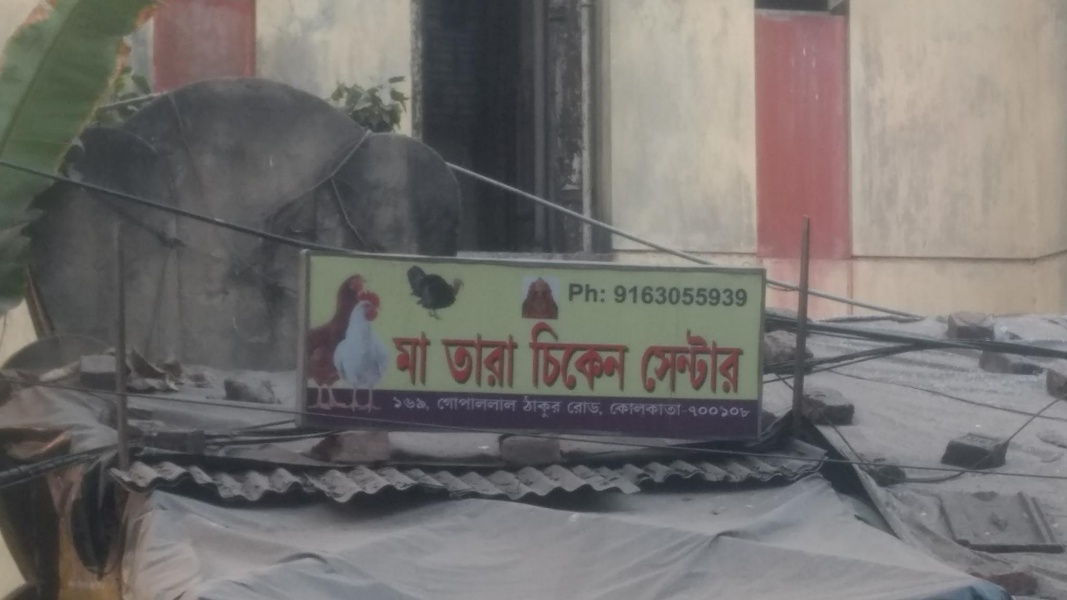text: (529, 318, 544, 393), (545, 318, 560, 393), (561, 318, 576, 393), (577, 318, 592, 393), (593, 318, 608, 393), (609, 318, 624, 393), (641, 330, 656, 396), (657, 330, 672, 396), (673, 330, 688, 396), (689, 330, 704, 396), (705, 330, 720, 396), (721, 330, 736, 396), (449, 333, 464, 393), (465, 333, 480, 393), (481, 333, 496, 393), (497, 333, 512, 393), (401, 329, 416, 388), (417, 329, 432, 388), (625, 318, 633, 393), (737, 330, 746, 396), (391, 329, 400, 388), (441, 333, 448, 393), (529, 393, 544, 420), (545, 393, 560, 420), (577, 282, 592, 307), (593, 282, 608, 307), (625, 285, 640, 308), (641, 285, 656, 308), (657, 285, 672, 308), (673, 285, 688, 308), (689, 285, 704, 308), (705, 285, 720, 308), (721, 285, 736, 308), (449, 396, 464, 415), (465, 396, 480, 415), (481, 396, 496, 415), (497, 396, 512, 415), (737, 285, 749, 308), (737, 404, 753, 420), (513, 333, 517, 393), (401, 396, 416, 412), (417, 396, 432, 412), (577, 401, 592, 417), (689, 404, 704, 420), (705, 404, 720, 420), (721, 404, 736, 420), (625, 403, 640, 418), (641, 403, 656, 418), (657, 403, 672, 418), (567, 282, 576, 307), (615, 285, 624, 308), (611, 403, 624, 418), (593, 401, 605, 417), (439, 396, 448, 415), (673, 403, 683, 418), (567, 401, 576, 417), (523, 393, 528, 420), (561, 393, 566, 420), (393, 396, 400, 412), (513, 396, 518, 415)
